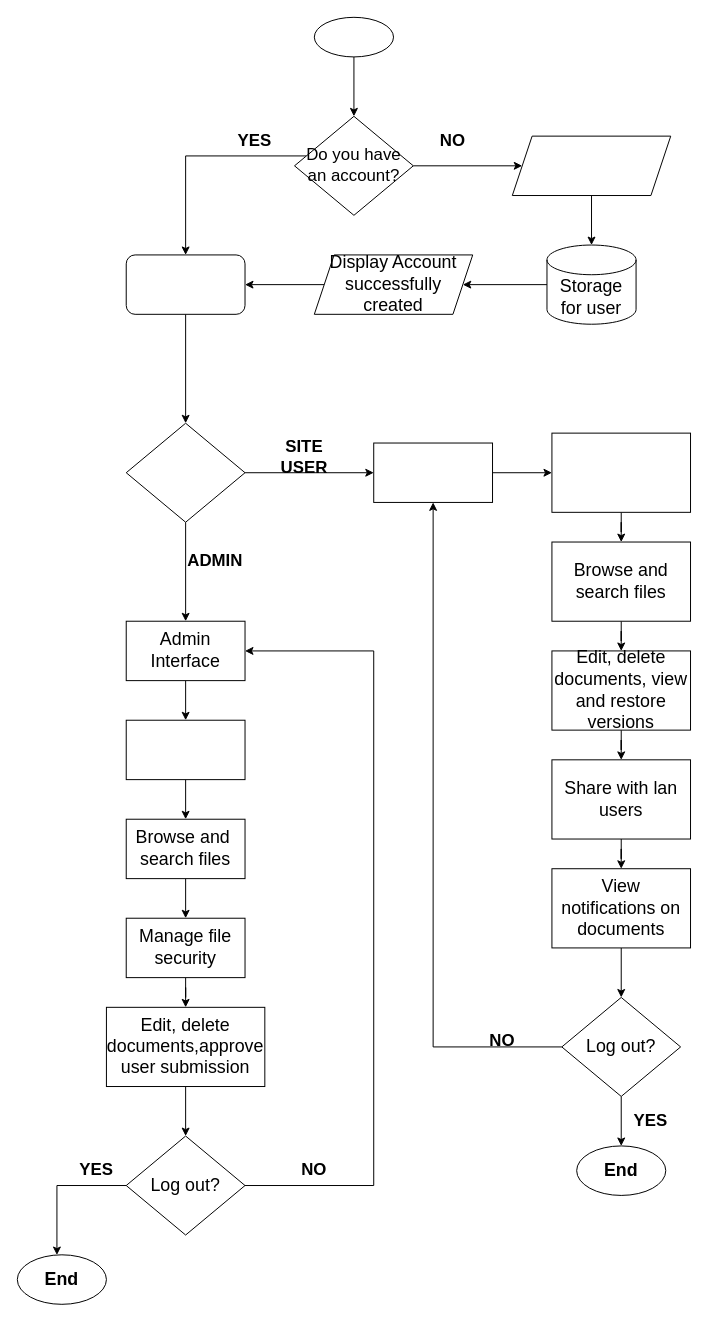
Image size: 708x1322. Some labels were removed from this diagram. Here are the shapes that lost their labels. From the top down, the box of each, then its label:
(313, 16, 394, 57): Start
(511, 135, 671, 196): Enter Username and password
(125, 254, 245, 314): Log in System
(125, 422, 245, 522): Admin or Site User?
(373, 442, 493, 502): Site User interface
(551, 432, 691, 512): Upload docs
(125, 719, 245, 780): Manage users in the system
